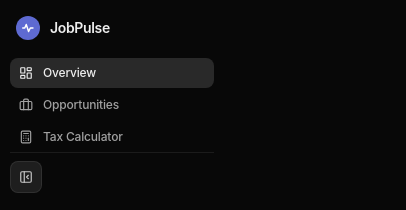
Scenario: DashboardSidebar › shows numeric shortcuts only in the navigation tooltip
The image size is (406, 210).
Check: the text "Overview" is shown, box [43,65,96,81]
Check: the text "Opportunities" is shown, box [43,97,119,113]
Focus the link "Opportunities" at (69, 104), box [19,97,119,112]
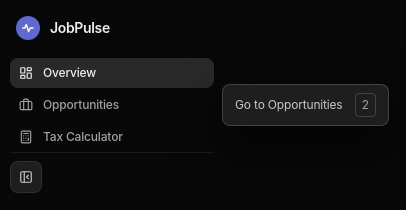
Check: the tooltip shows "2", box [362,97,369,112]
